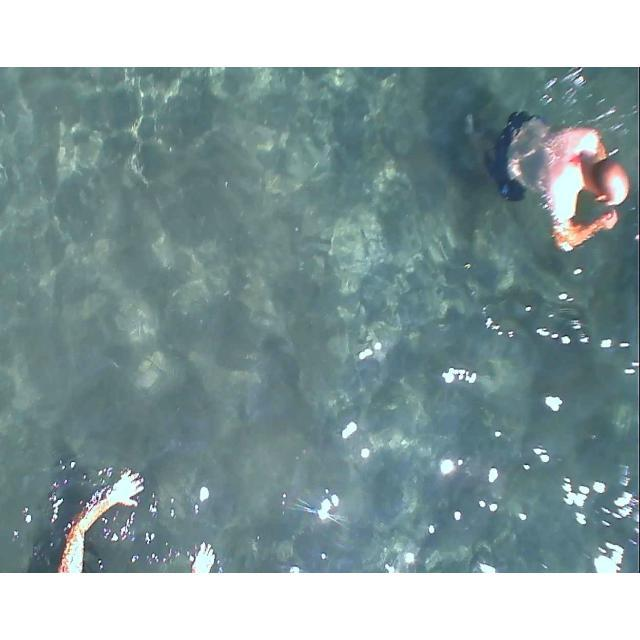human: (510, 96, 626, 257)
